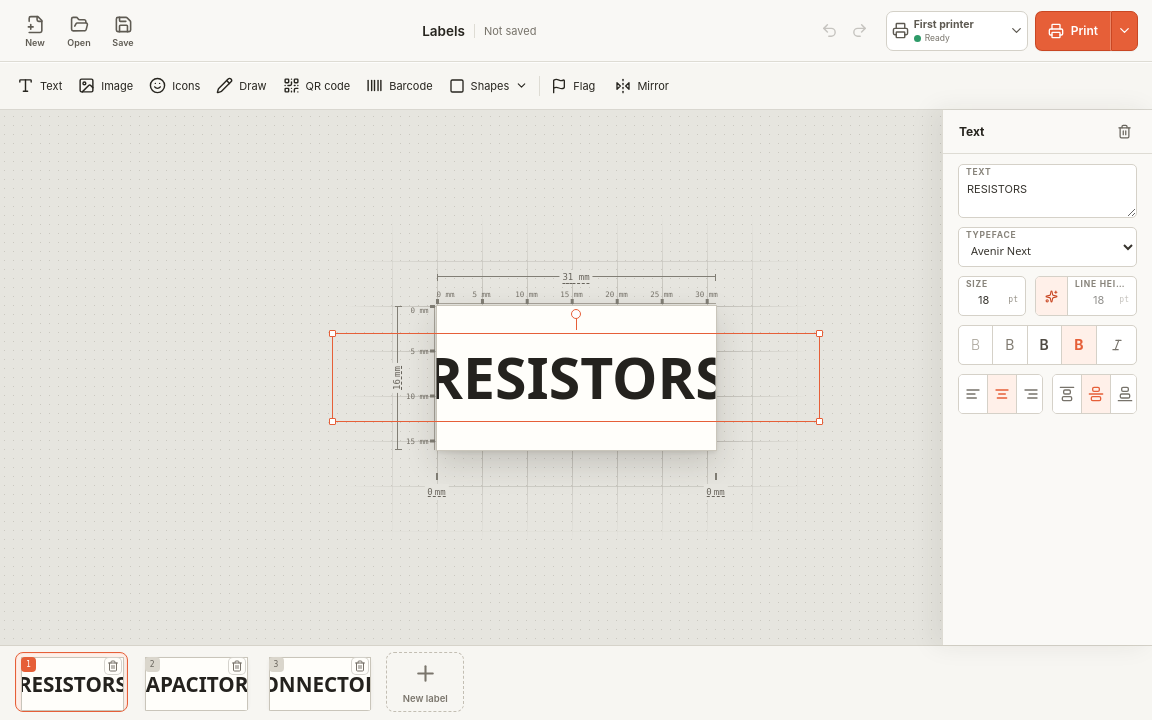
Test: LabelmakerApp › does not restore a removed printer from an older refresh
Click the button with aria-label "Selected printer: First printer" at coordinates (957, 30), box [886,10,1028,50]
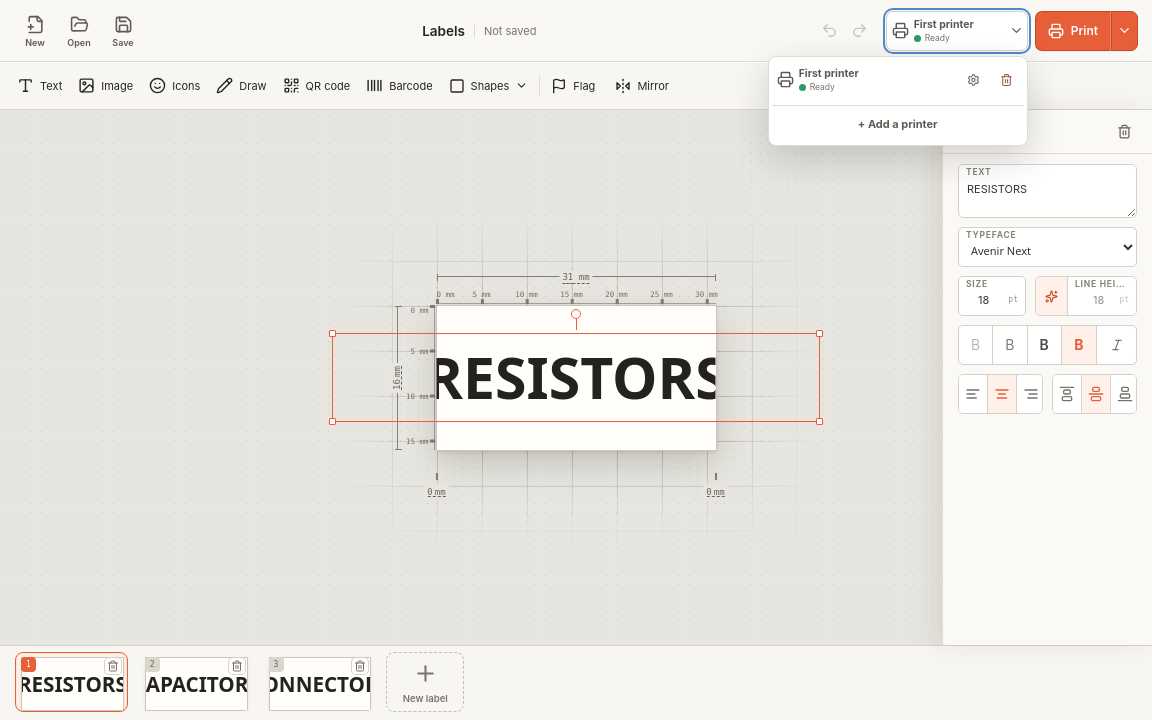
Click the button named "Remove First printer" at coordinates (1006, 80), box [994,67,1019,92]
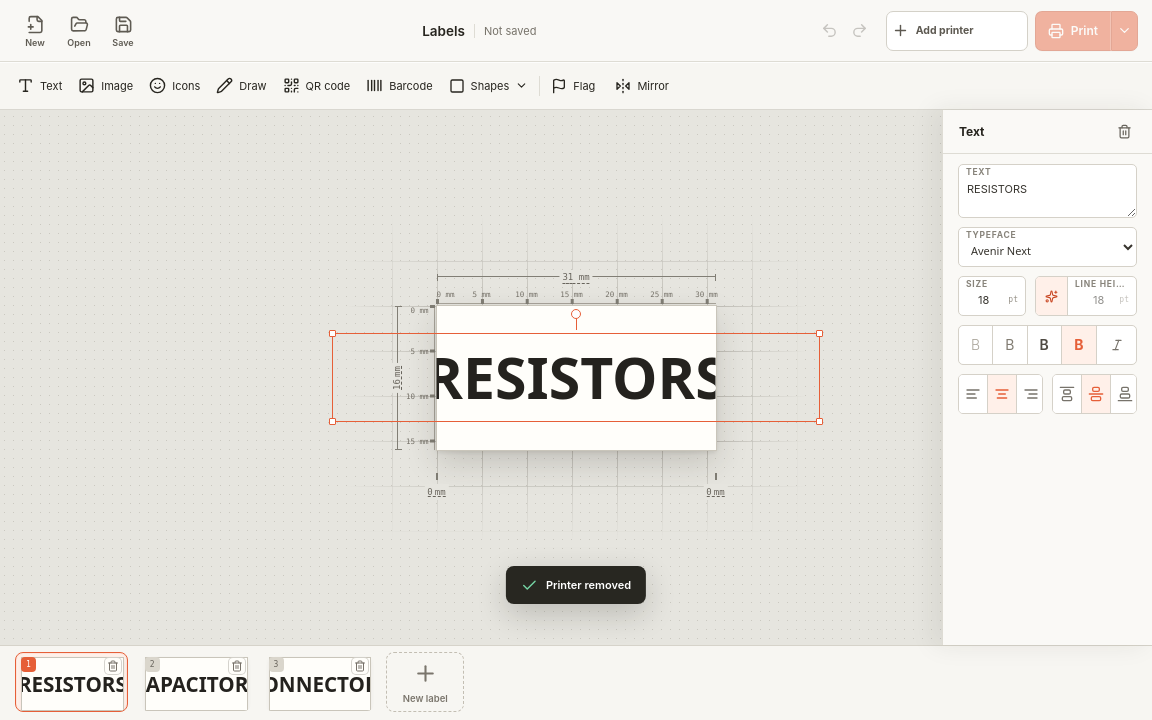
Result: the text "Printer removed" is shown at [546,578,631,592]
Result: the button "Add printer" is shown at [886,10,1028,50]
